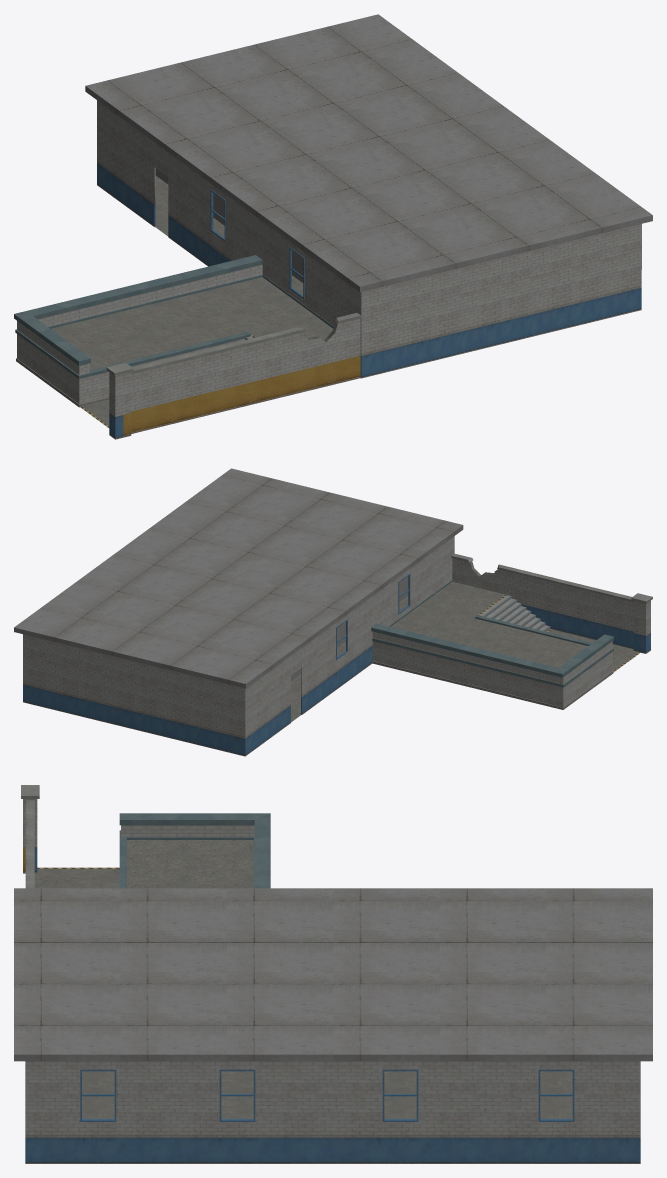
File: Building_Fdc04_2048.glb
3 views of the same model, one above another, from view 1: azimuth 30°, elevation 25°; view 2: azimuth 150°, elevation 25°; view 3: azimuth 270°, elevation 25° (orthographic). The views are drawn at different scales.
Visible parts, largest first — view 1: xiutz_fdc_04; view 2: xiutz_fdc_04; view 3: xiutz_fdc_04.
Boxes of the visible parts, x1,y1,x2,y2 form: xiutz_fdc_04: [14, 14, 652, 439]; xiutz_fdc_04: [14, 468, 652, 756]; xiutz_fdc_04: [14, 785, 652, 1163].
Size of the model in its own units: 31.29 by 5.42 by 27.8.
Materials: 1 (1 with a texture image).
